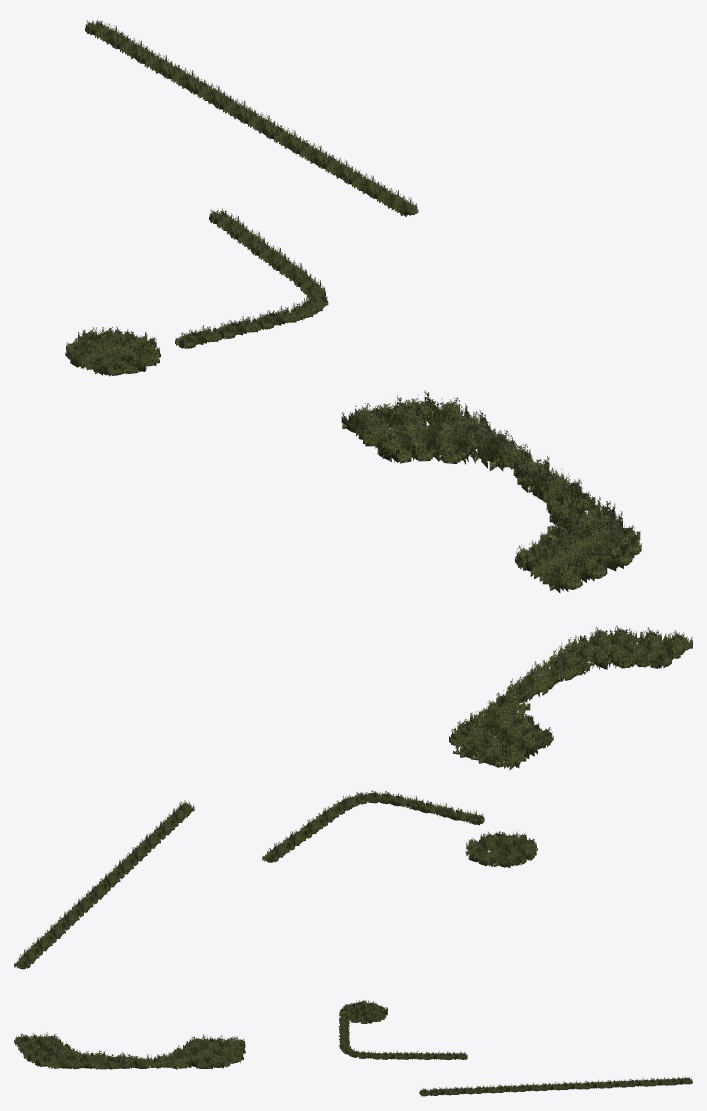
File: grass_01.fbx
The picture shows the model from 3 angles, top to bottom: view 1: azimuth 30°, elevation 25°; view 2: azimuth 150°, elevation 25°; view 3: azimuth 270°, elevation 25°; orthographic projection. The views are drawn at different scales.
Visible parts, largest first — view 1: Mesh_ncl1_3, Mesh_ncl1_2, Mesh_ncl1_1, Mesh; view 2: Mesh_ncl1_3, Mesh_ncl1_2, Mesh_ncl1_1, Mesh; view 3: Mesh_ncl1_3, Mesh_ncl1_2, Mesh_ncl1_1, Mesh.
Part boxes in pixels (x1,y1,x2,y2): Mesh_ncl1_3: (341, 390, 641, 592); Mesh_ncl1_2: (85, 19, 418, 216); Mesh_ncl1_1: (175, 208, 328, 348); Mesh: (65, 326, 160, 376); Mesh_ncl1_3: (449, 625, 692, 770); Mesh_ncl1_2: (14, 800, 194, 969); Mesh_ncl1_1: (262, 790, 484, 862); Mesh: (465, 831, 537, 867); Mesh_ncl1_3: (14, 1032, 245, 1069); Mesh_ncl1_2: (419, 1076, 692, 1096); Mesh_ncl1_1: (338, 1015, 467, 1059); Mesh: (339, 1000, 387, 1023).
Size of the model in its own units: 1747 by 135 by 5089.
